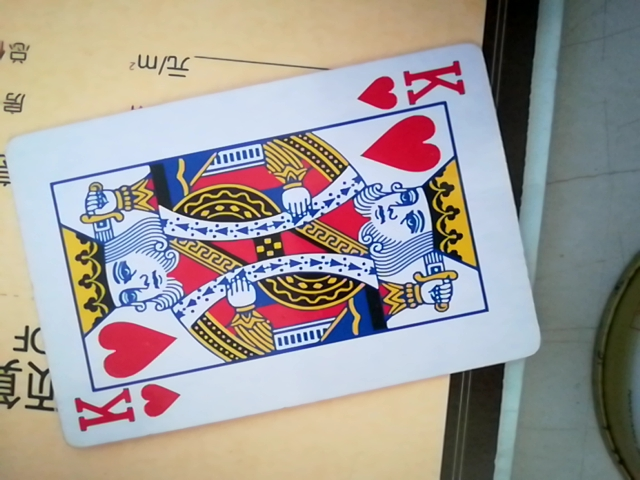hx k: (8, 45, 538, 450)
